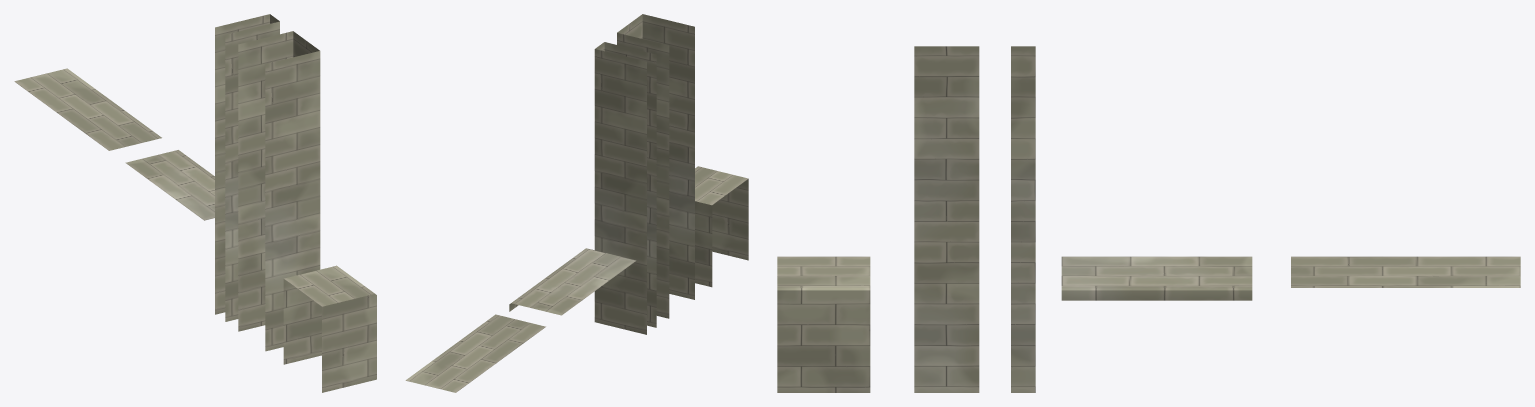
Rendered from Tiles03.fbx.
3 renders of one model, left to right at view 1: azimuth 30°, elevation 25°; view 2: azimuth 150°, elevation 25°; view 3: azimuth 270°, elevation 25°, orthographic. The views are drawn at different scales.
Visible parts, largest first — view 1: BricksVerticalMedium, BricksSmall, BricksVerticalThin, BricksPlane, BricksSmallThin; view 2: BricksVerticalThin, BricksVerticalMedium, BricksSmall, BricksPlane, BricksSmallThin; view 3: BricksVerticalMedium, BricksSmall, BricksVerticalThin, BricksSmallThin, BricksPlane.
Part boxes in pixels (left/top/right/bottom): BricksVerticalMedium: left=238, top=31, right=320, bottom=351; BricksSmall: left=283, top=265, right=376, bottom=392; BricksVerticalThin: left=215, top=14, right=279, bottom=321; BricksPlane: left=14, top=68, right=161, bottom=150; BricksSmallThin: left=125, top=150, right=214, bottom=220; BricksVerticalThin: left=594, top=42, right=656, bottom=334; BricksVerticalMedium: left=617, top=14, right=694, bottom=318; BricksSmall: left=695, top=166, right=748, bottom=287; BricksPlane: left=405, top=314, right=545, bottom=392; BricksSmallThin: left=509, top=248, right=636, bottom=315; BricksVerticalMedium: left=914, top=46, right=979, bottom=392; BricksSmall: left=777, top=256, right=870, bottom=392; BricksVerticalThin: left=1011, top=46, right=1035, bottom=392; BricksSmallThin: left=1061, top=256, right=1252, bottom=300; BricksPlane: left=1291, top=256, right=1520, bottom=287.
Bounding box in the file's own units: 10 × 50 × 97.13.
Materials: 2 (2 with a texture image).
